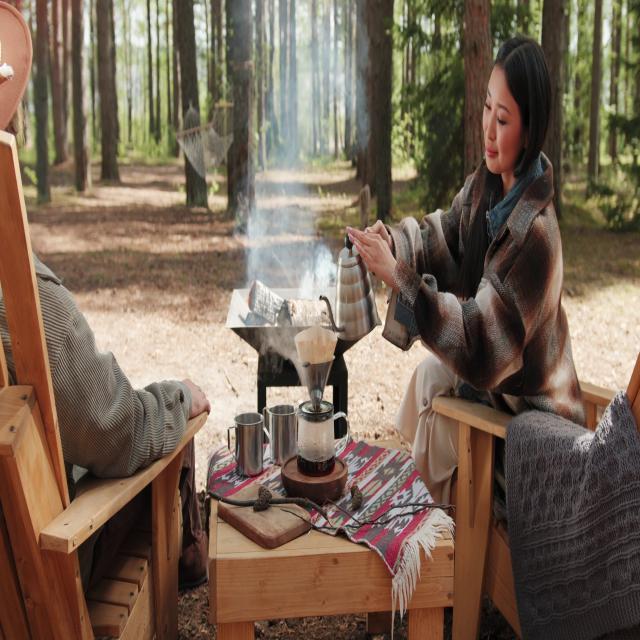Smoke: (220, 1, 383, 308)
